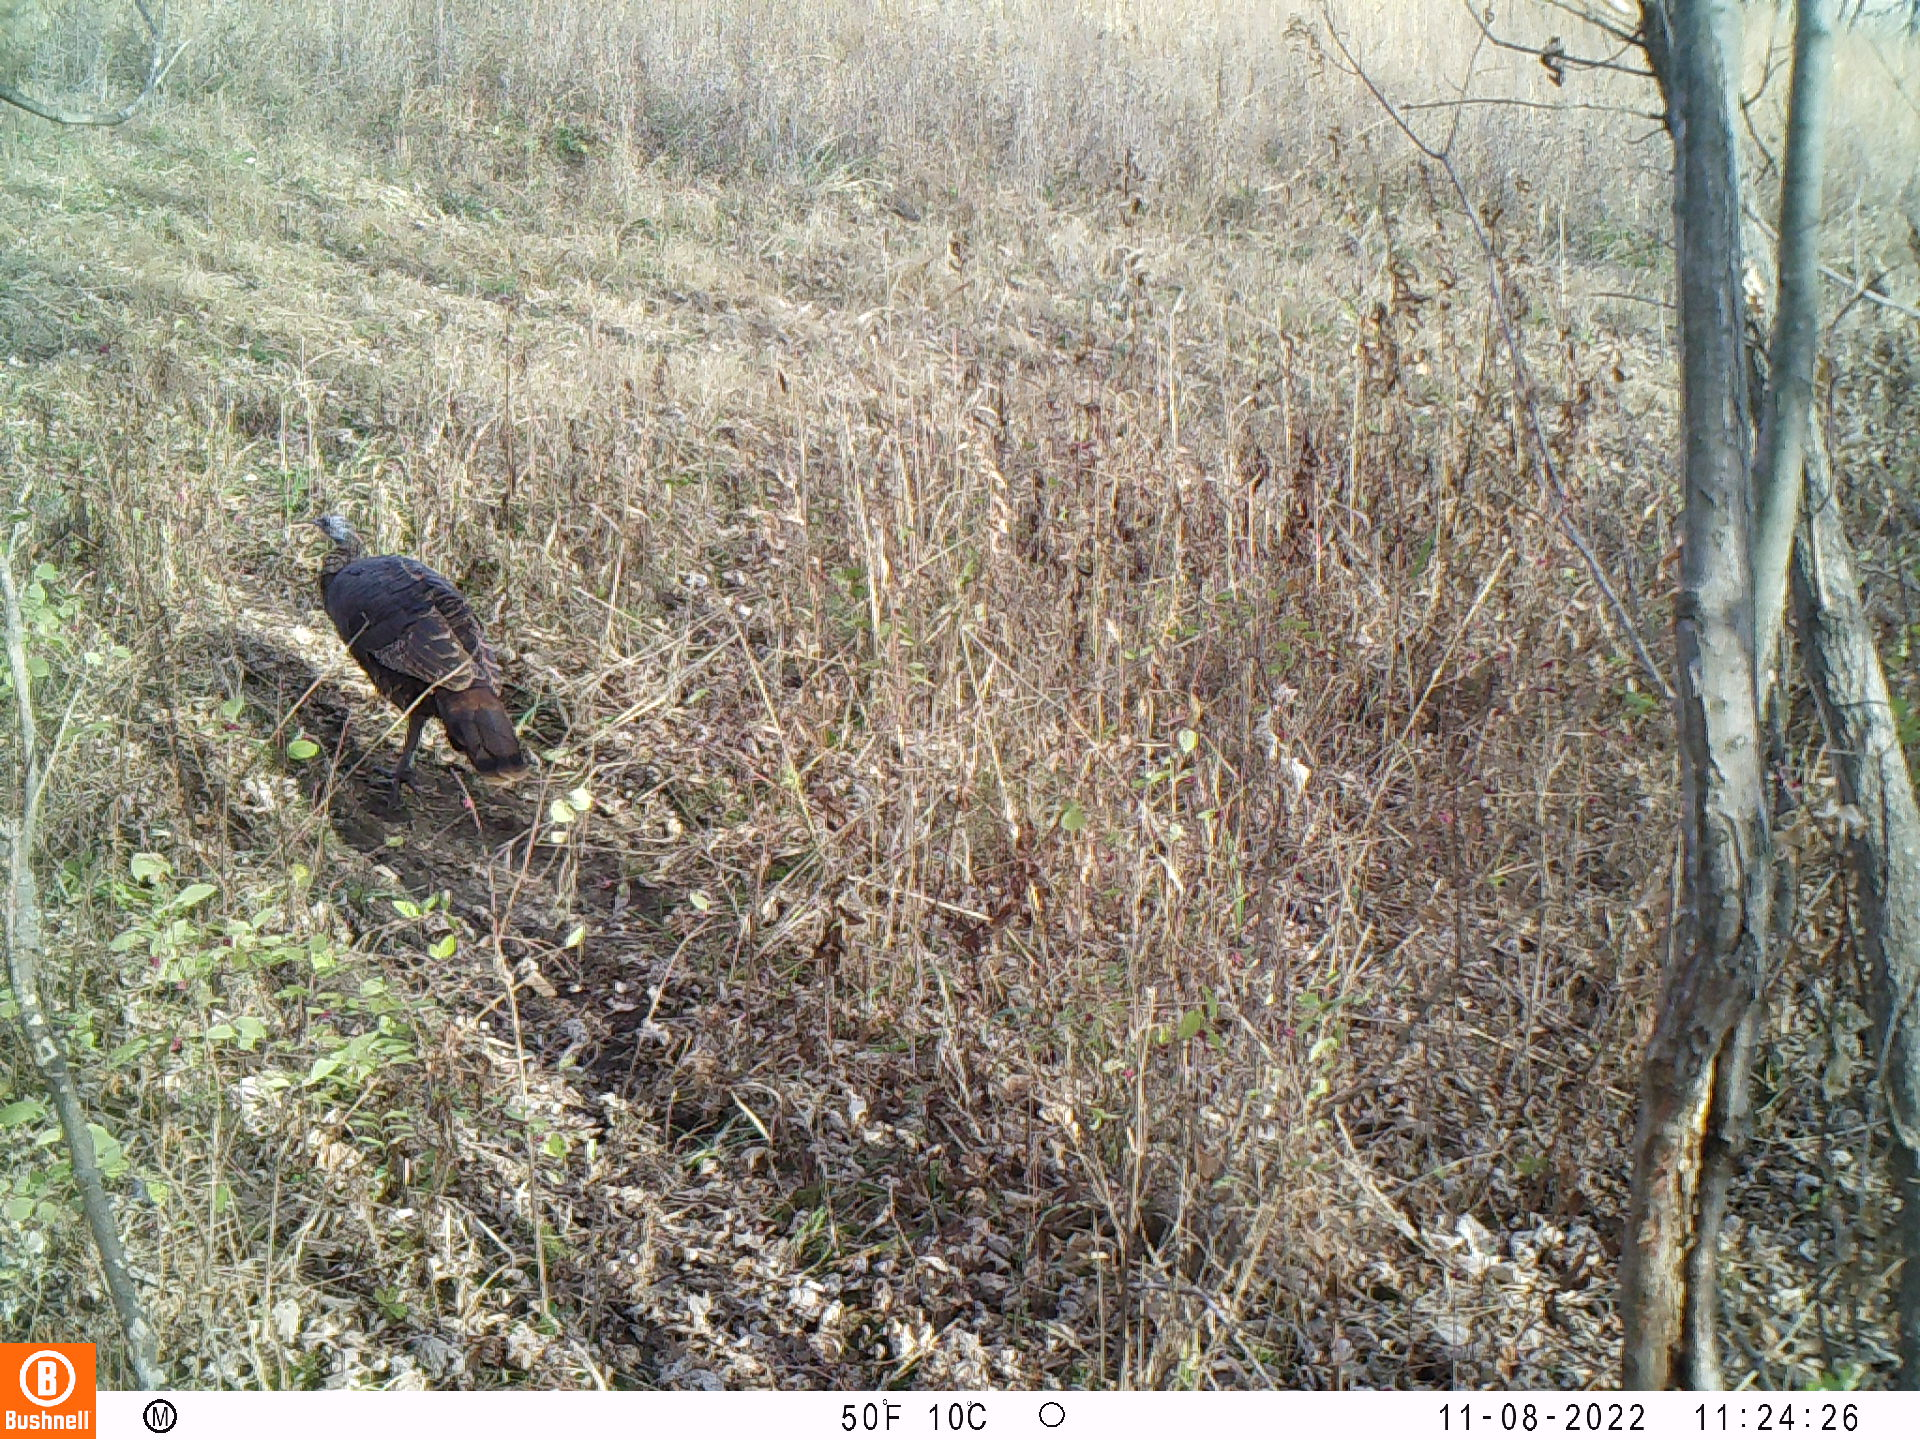Turkey: (310, 510, 531, 781)
